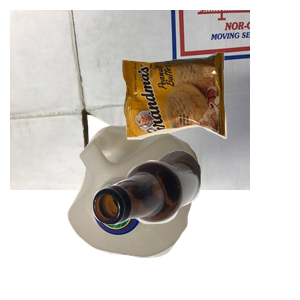cardboard: (10, 10, 250, 190)
glass: (90, 148, 300, 300)
plastic: (65, 123, 257, 300)
trash: (120, 50, 300, 182)
